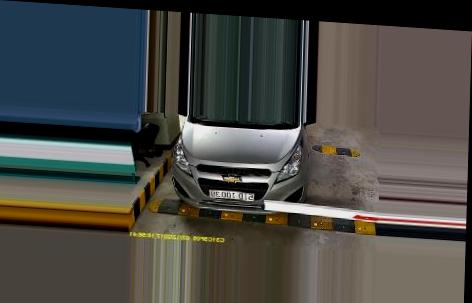License_Plate: (208, 187, 253, 202)
